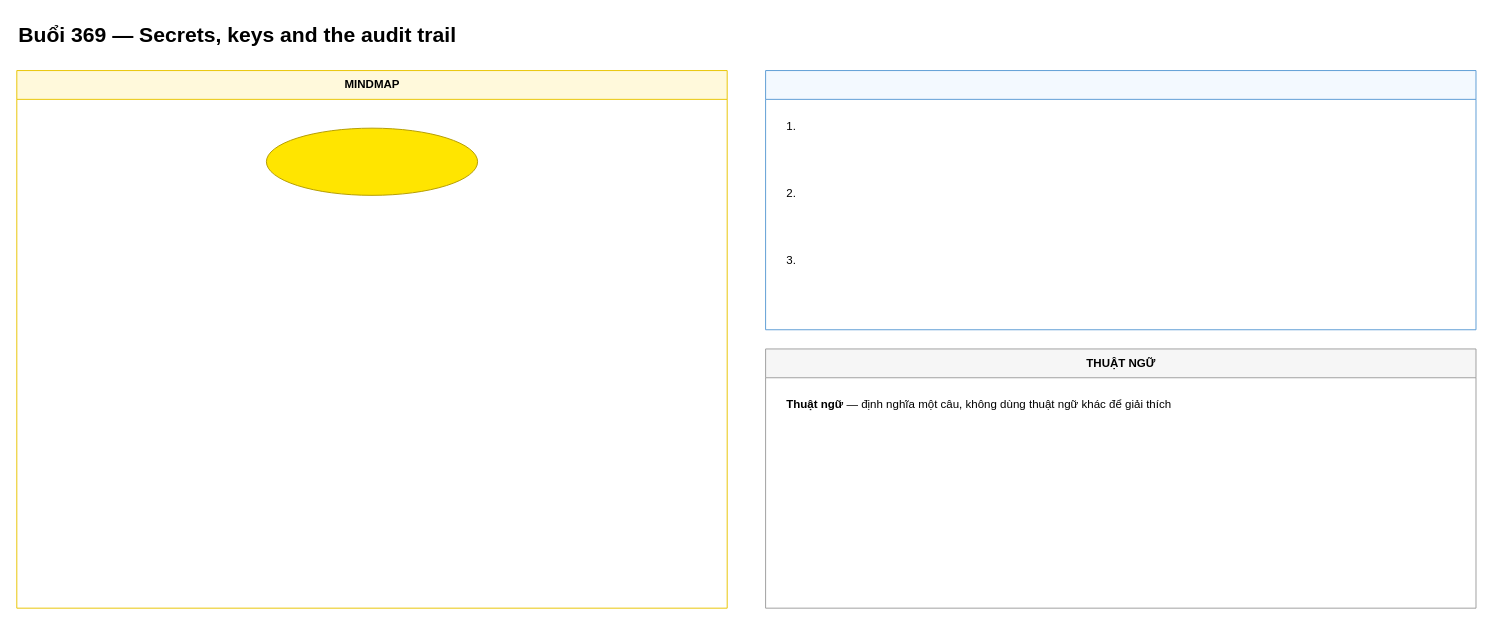
This 1493x625 diagram has some shape labels left out. Here are the shapes that lost their labels. From the top down, the box of each, then its label:
(265, 127, 478, 195): Secrets, keys and the audit trail
(765, 70, 1476, 330): KEY TAKEAWAY — ba điều phải nhớ
